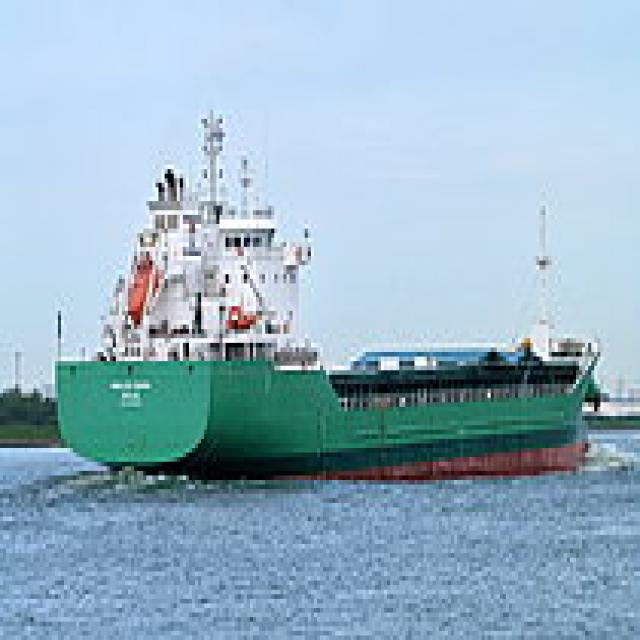Ship: (41, 97, 608, 495)
